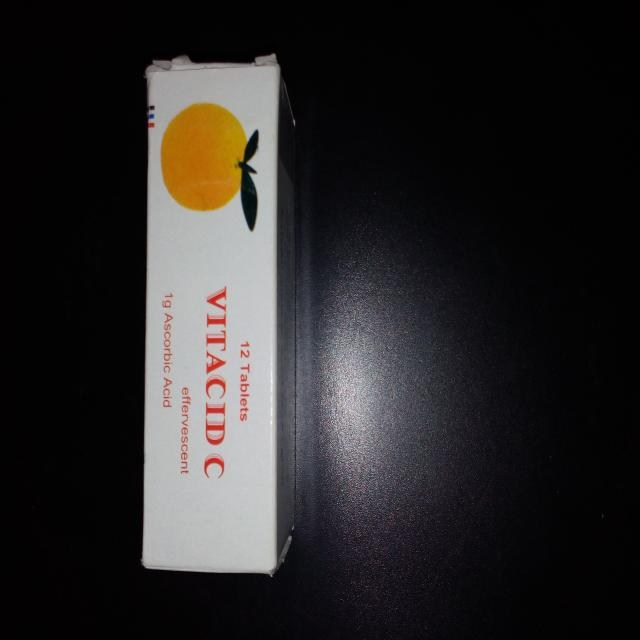Medicine: (138, 56, 297, 576)
